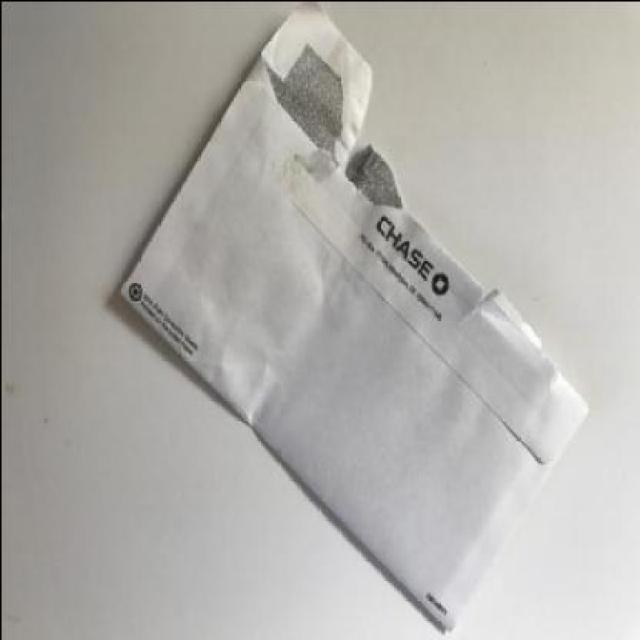PAPER: (119, 2, 587, 633)
